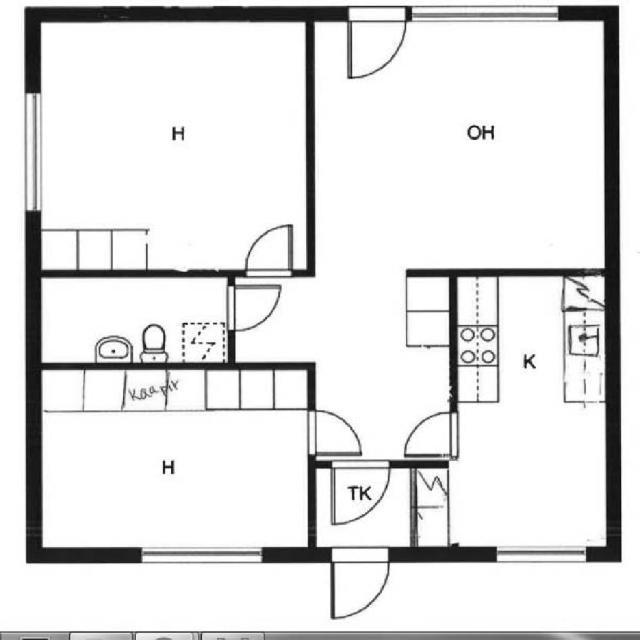door: (328, 546, 396, 623), (344, 4, 411, 82), (235, 217, 298, 282), (305, 402, 367, 459), (224, 279, 285, 334), (399, 406, 458, 459)
window: (14, 83, 54, 224), (406, 1, 570, 30), (136, 541, 269, 568), (489, 542, 592, 568)
zone: (328, 11, 610, 279), (31, 16, 310, 273), (34, 380, 318, 555), (453, 279, 613, 559), (36, 273, 233, 364), (310, 462, 451, 553), (37, 369, 271, 415), (317, 466, 398, 530)
